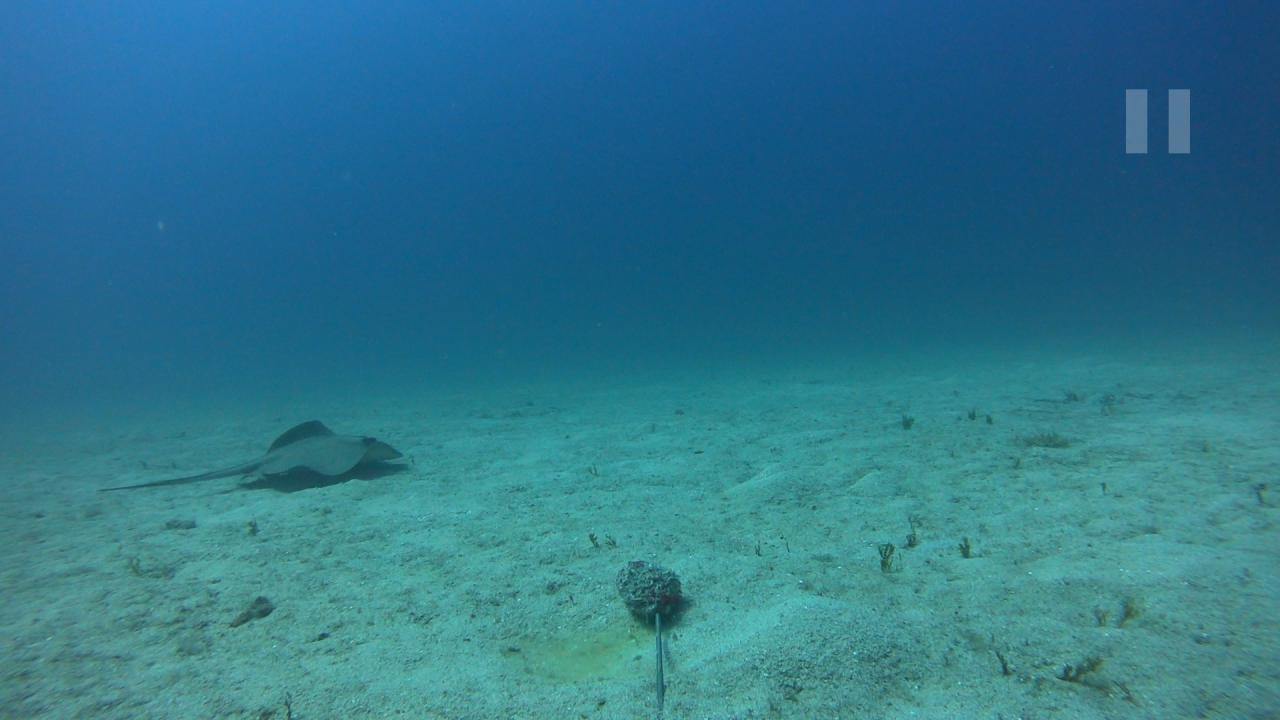dasyatis: (94, 418, 404, 492)
